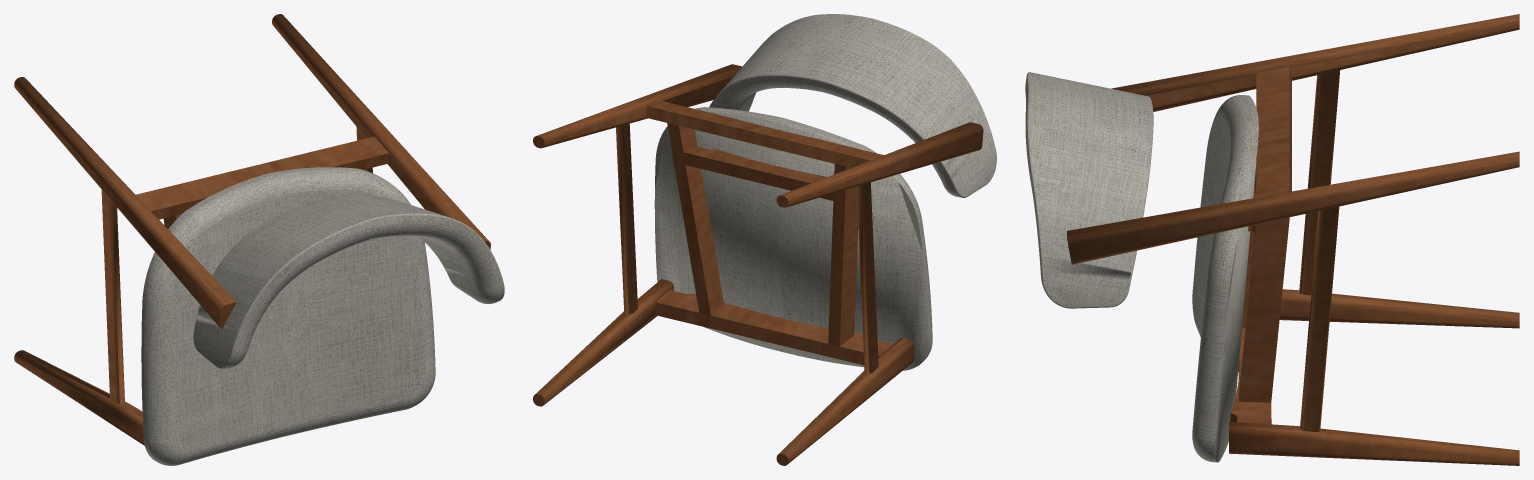
3 views of the same model, side by side, from view 1: azimuth 30°, elevation 25°; view 2: azimuth 150°, elevation 25°; view 3: azimuth 270°, elevation 25° (orthographic). The views are drawn at different scales.
Parts seen in each view (by area): view 1: C-ACENTO CAD.STL, C-ESTRUTURA CAD.STL, C-ENCOSTO CAD.STL; view 2: C-ESTRUTURA CAD.STL, C-ACENTO CAD.STL, C-ENCOSTO CAD.STL; view 3: C-ESTRUTURA CAD.STL, C-ENCOSTO CAD.STL, C-ACENTO CAD.STL.
Boxes of the visible parts, x1,y1,x2,y2 form: C-ACENTO CAD.STL: [141, 167, 435, 465]; C-ESTRUTURA CAD.STL: [14, 14, 490, 445]; C-ENCOSTO CAD.STL: [193, 195, 504, 368]; C-ESTRUTURA CAD.STL: [533, 64, 983, 465]; C-ACENTO CAD.STL: [654, 107, 932, 370]; C-ENCOSTO CAD.STL: [709, 14, 996, 197]; C-ESTRUTURA CAD.STL: [1067, 14, 1519, 465]; C-ENCOSTO CAD.STL: [1025, 72, 1153, 308]; C-ACENTO CAD.STL: [1192, 95, 1258, 462].
Size of the model in its own units: 0.5398 by 0.5222 by 0.7316.
Materials: 2 (2 with a texture image).
